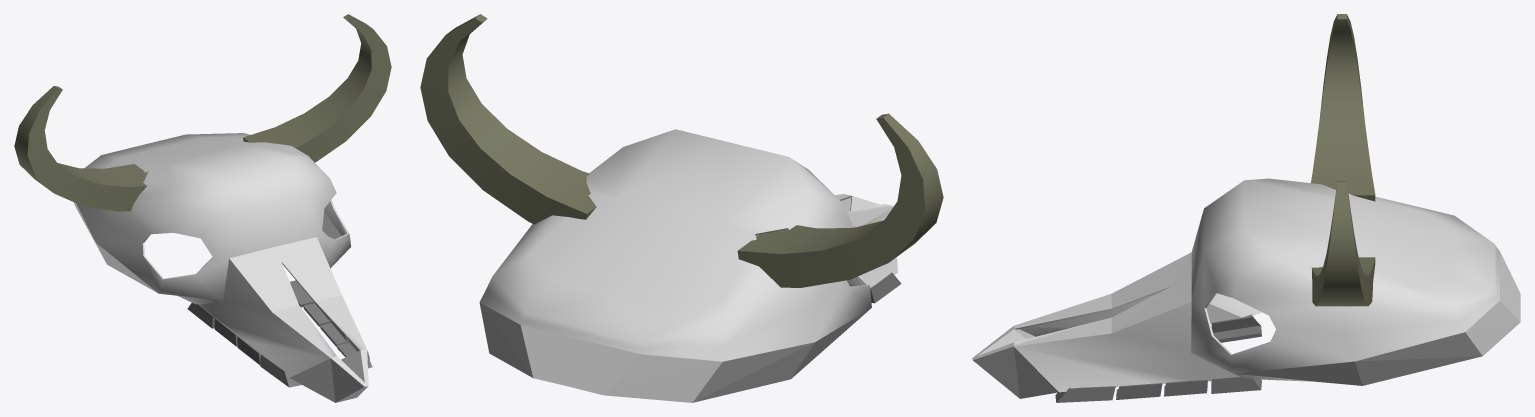
The model's file is OxSkull1.fbx.
3 renders of one model, left to right at view 1: azimuth 30°, elevation 25°; view 2: azimuth 150°, elevation 25°; view 3: azimuth 270°, elevation 25°, orthographic. The views are drawn at different scales.
Visible parts, largest first — view 1: oxSkull, Horn, teeth; view 2: oxSkull, Horn, teeth; view 3: oxSkull, Horn, teeth.
Part boxes in pixels (box(x1,y1,x2,y2)): oxSkull: box(74, 133, 369, 402); Horn: box(14, 14, 391, 211); teeth: box(187, 280, 372, 387); oxSkull: box(479, 129, 897, 402); Horn: box(420, 14, 943, 287); teeth: box(870, 272, 901, 303); oxSkull: box(972, 178, 1520, 398); Horn: box(1311, 14, 1375, 306); teeth: box(1055, 314, 1261, 402).
Bounding box in the file's own units: 32.05 × 20.99 × 35.75.
